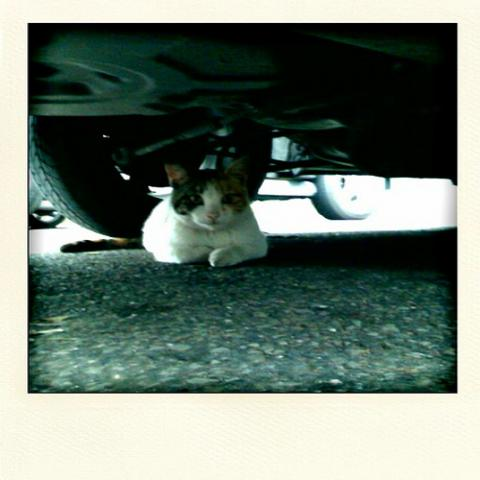car: (18, 10, 468, 241), (256, 178, 390, 221)
